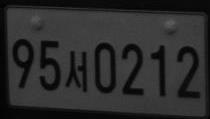0: (92, 41, 117, 93)
1: (148, 44, 173, 98)
2: (175, 44, 201, 98), (120, 41, 145, 95)
5: (37, 39, 62, 91)
9: (10, 37, 35, 88)
서: (65, 50, 88, 93)
